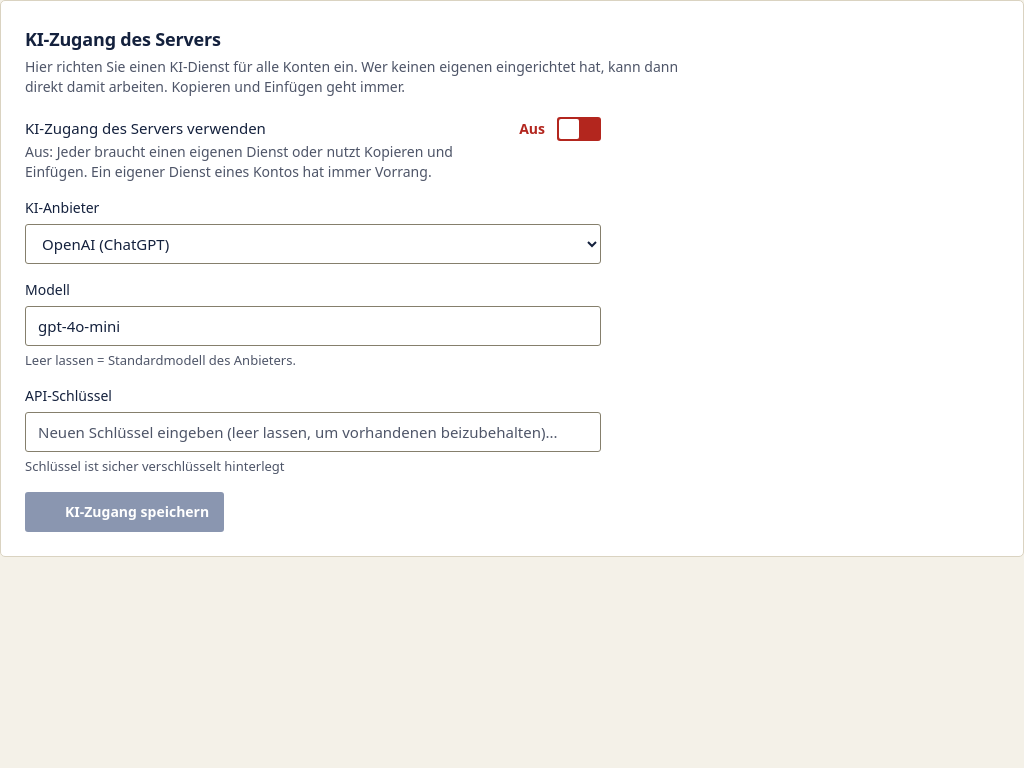
Test: AI access of the server (administration) › shows a refused password inside the dialog and keeps the form
Step 1. Click the switch named "KI-Zugang des Servers verwenden" → (579, 129), box x1=557 y1=117 x2=601 y2=141
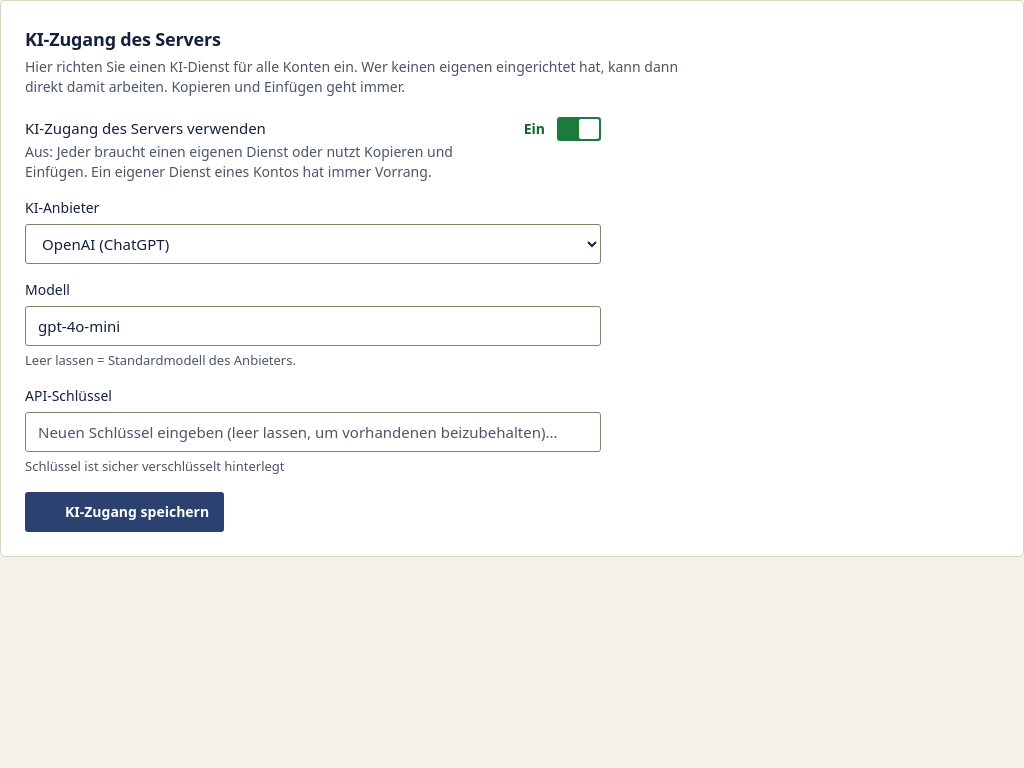
Step 2. Click the button "undefined KI-Zugang speichern" → (125, 512), box x1=25 y1=492 x2=224 y2=532
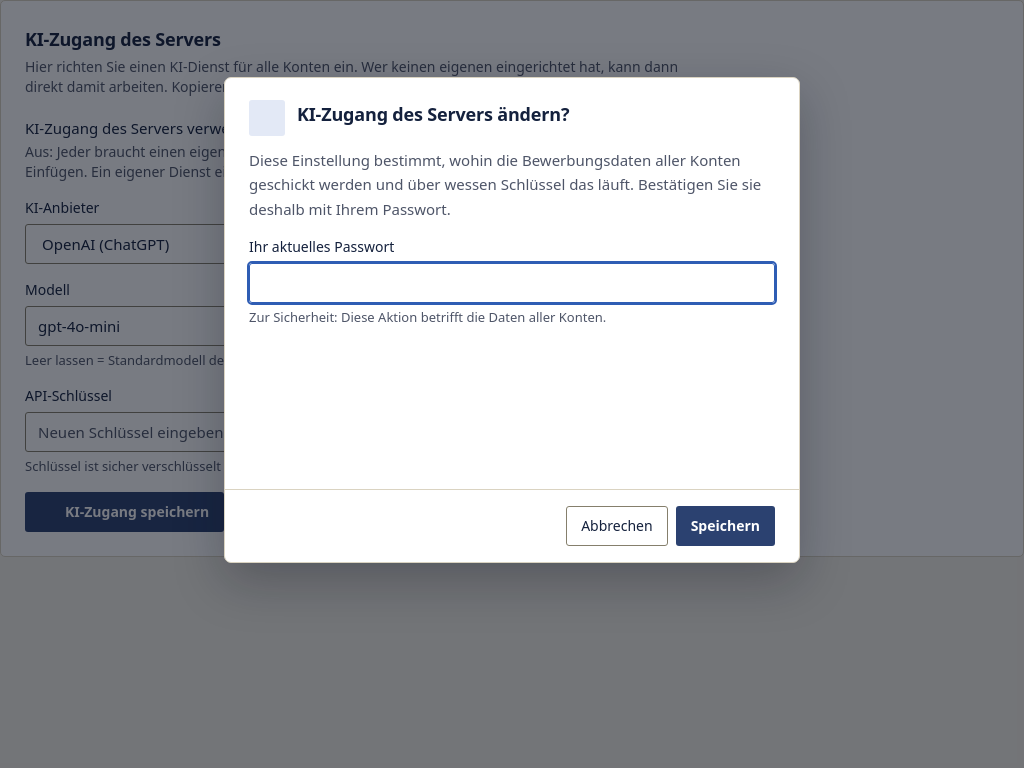
Step 3. Type "wrong" into the password field labelled "Ihr aktuelles Passwort" → (512, 283), box x1=249 y1=263 x2=775 y2=303
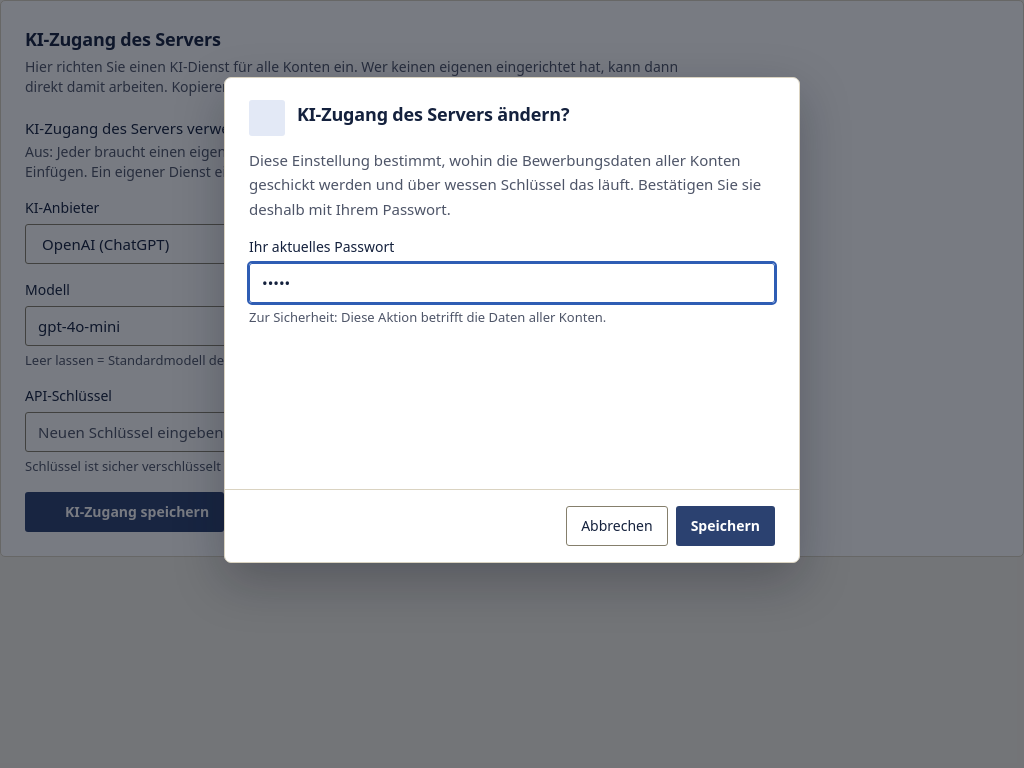
Step 4. Click the button with test id "reauth-confirm" → (725, 526), box x1=676 y1=506 x2=775 y2=546
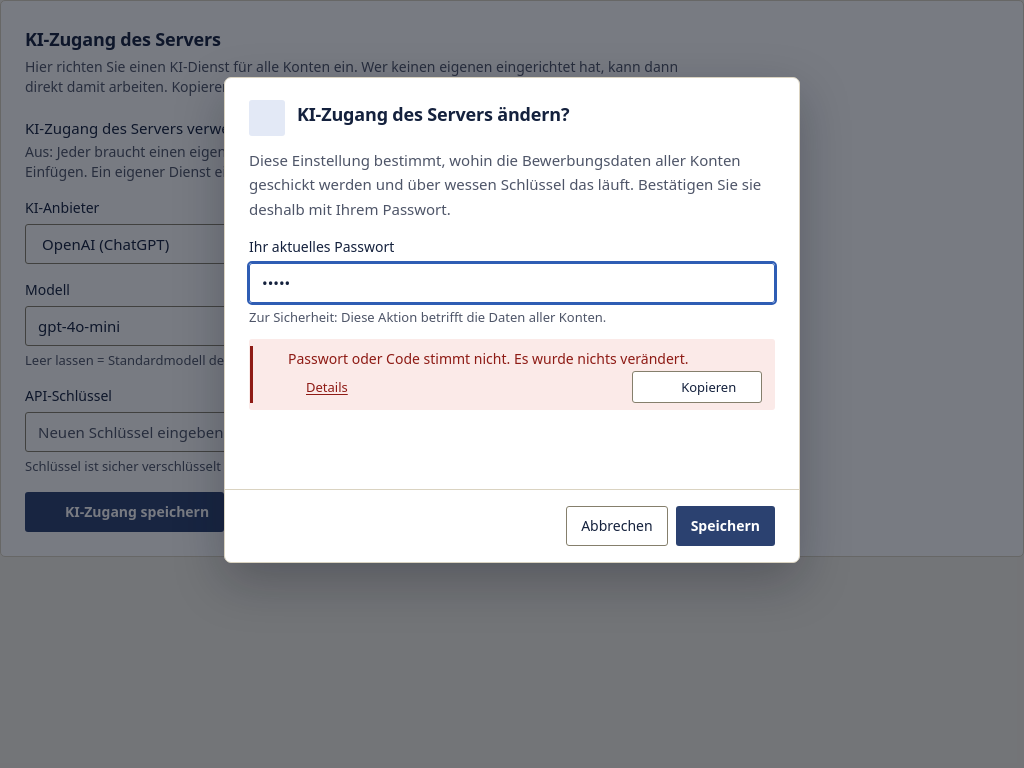
expect the message with test id "error-notice" is shown: met, box x1=249 y1=339 x2=775 y2=410
